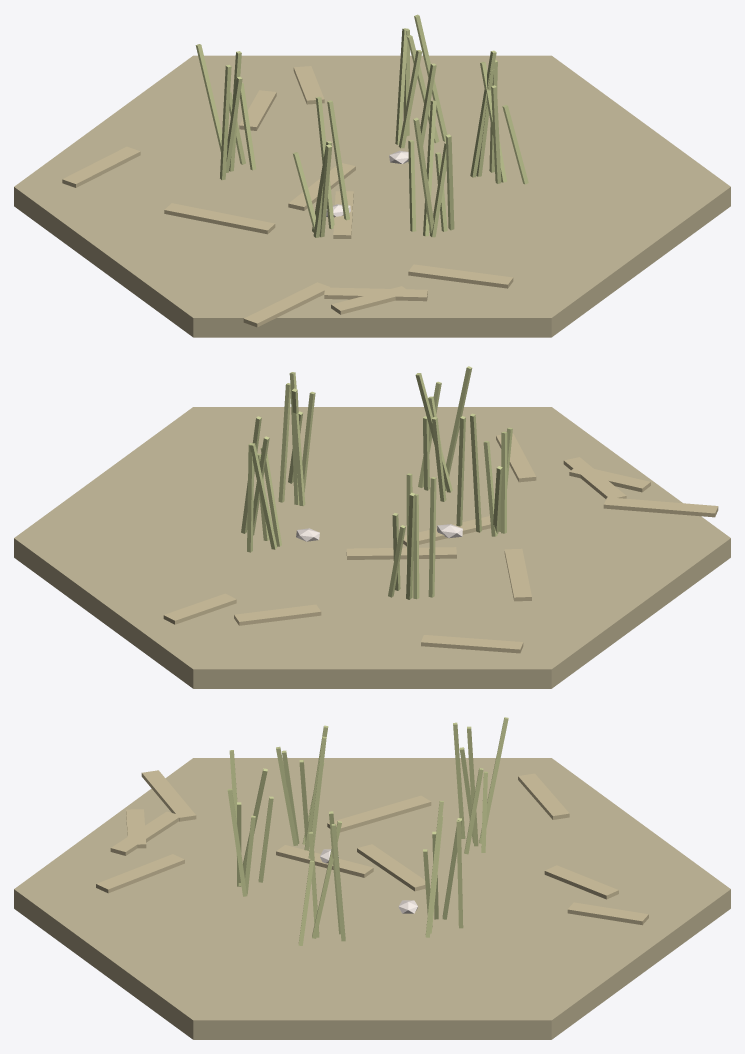
The model's file is sand_02.glb.
3 renders of one model, top to bottom at view 1: azimuth 30°, elevation 25°; view 2: azimuth 150°, elevation 25°; view 3: azimuth 270°, elevation 25°, orthographic.
Parts seen in each view (by area): view 1: plate; view 2: plate; view 3: plate.
Part boxes in pixels (left/top/right/bottom): plate: left=14, top=14, right=730, bottom=337; plate: left=14, top=366, right=730, bottom=688; plate: left=14, top=717, right=730, bottom=1039.
Size of the model in its own units: 1.73 by 0.4504 by 2.
